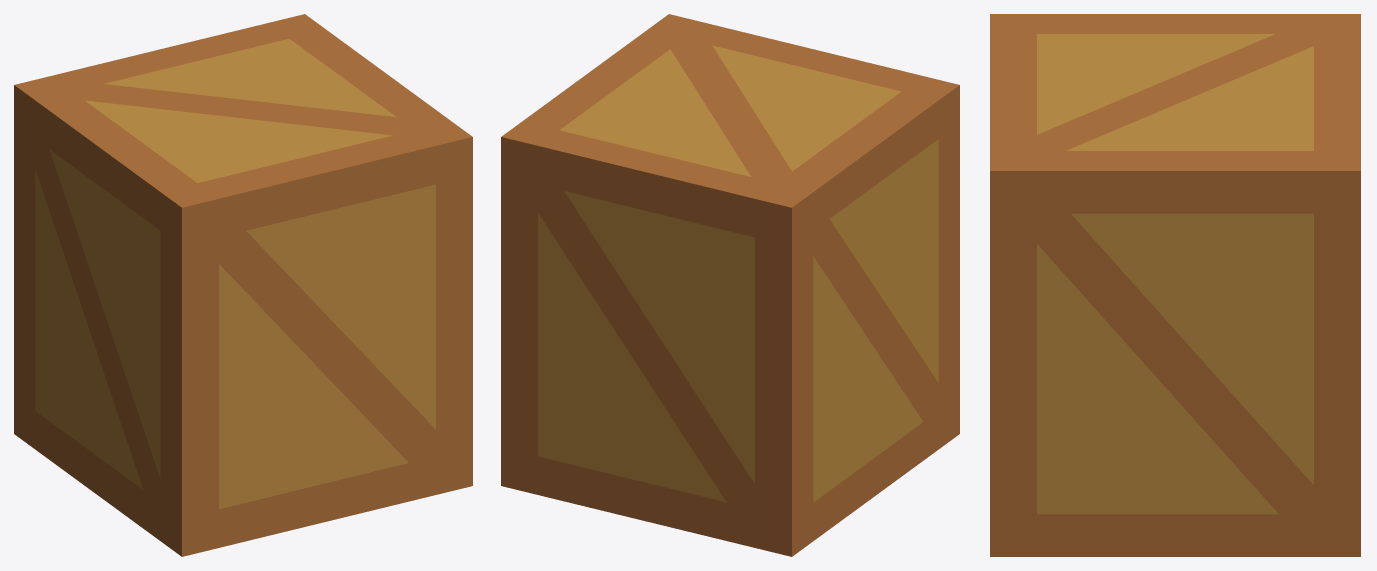
File: Box Small.FBX
The picture shows the model from 3 angles, left to right: view 1: azimuth 30°, elevation 25°; view 2: azimuth 150°, elevation 25°; view 3: azimuth 270°, elevation 25°; orthographic projection. The views are drawn at different scales.
Parts seen in each view (by area): view 1: Object023; view 2: Object023; view 3: Object023.
Part boxes in pixels (bbox=[...]): Object023: bbox=[14, 14, 472, 556]; Object023: bbox=[501, 14, 959, 556]; Object023: bbox=[990, 14, 1360, 556].
Size of the model in its own units: 112 by 129 by 112.
